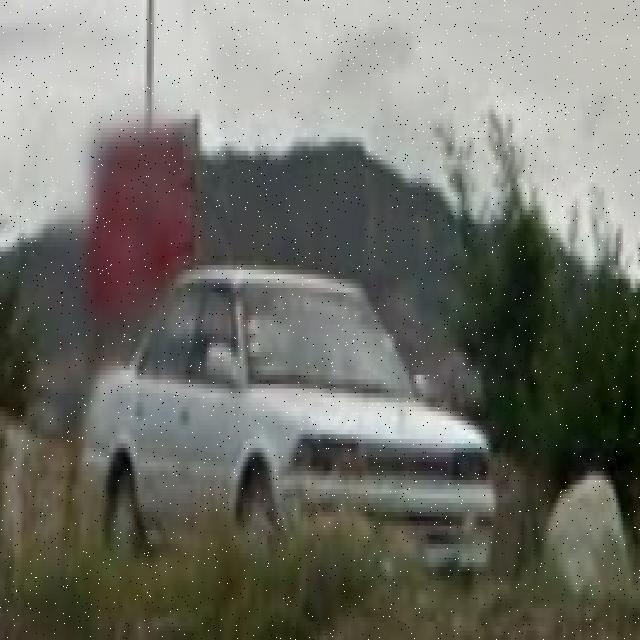car: (82, 250, 494, 570)
